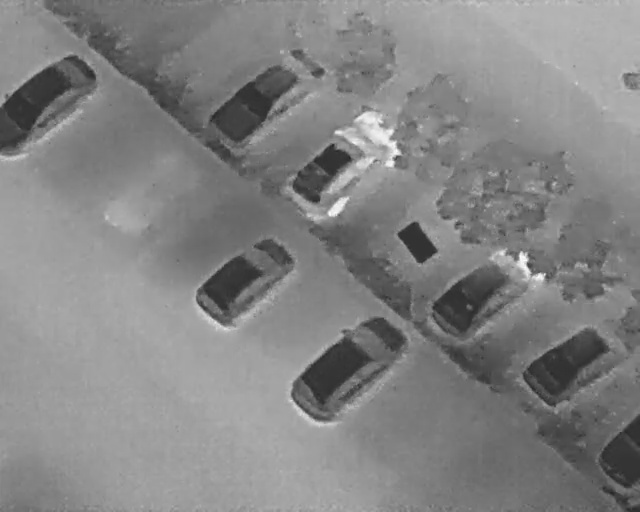Car: (276, 92, 419, 233), (275, 298, 420, 437), (198, 34, 333, 163), (419, 225, 555, 353), (185, 222, 304, 337), (513, 305, 632, 418), (0, 49, 101, 162), (594, 411, 639, 491)
